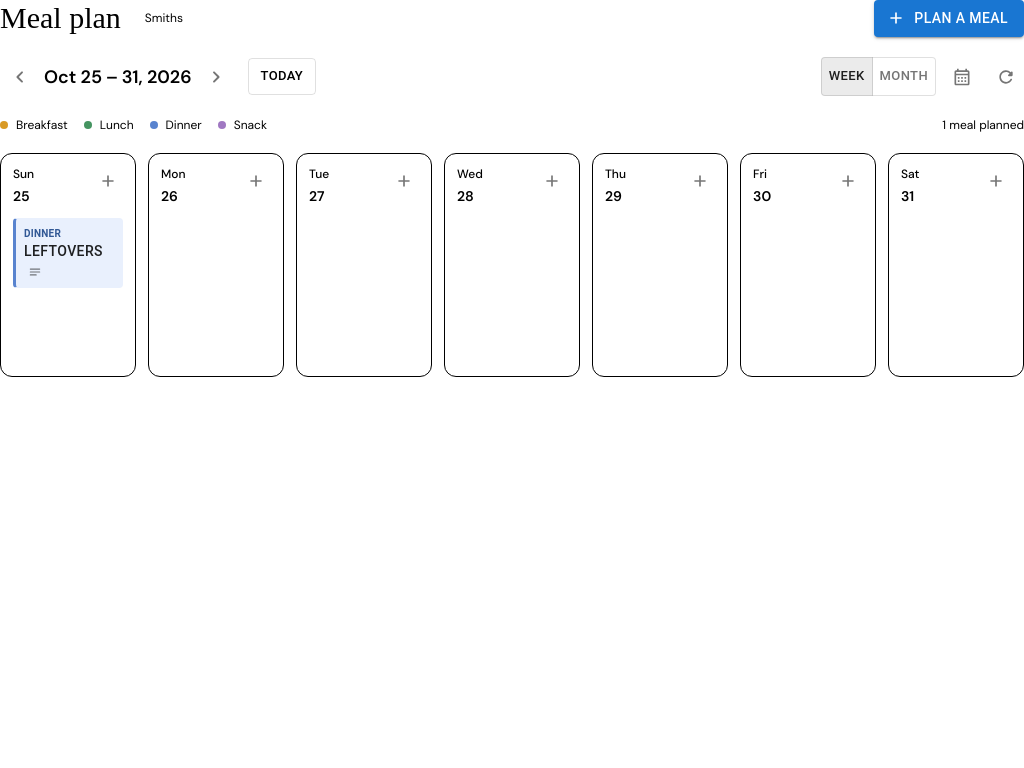
existing entries open for editing and are ordered within their date
Click the button with aria-label "Edit Dinner: Leftovers on 2026-10-25": point(68, 252) 13,218 -> 123,288
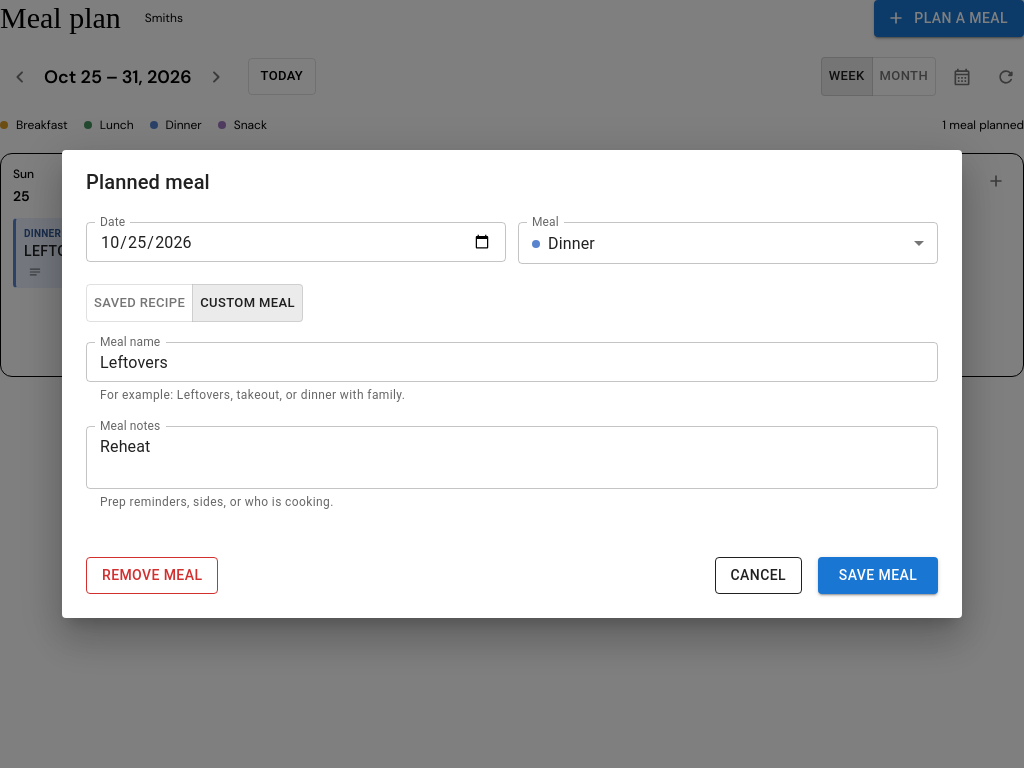
Now the dialog is shown, box 62,150 -> 962,618
Now the field labelled "Meal name" holds "Leftovers", box 86,342 -> 938,382
Now the text box labelled "Meal notes" holds "Reheat", box 100,435 -> 924,481
